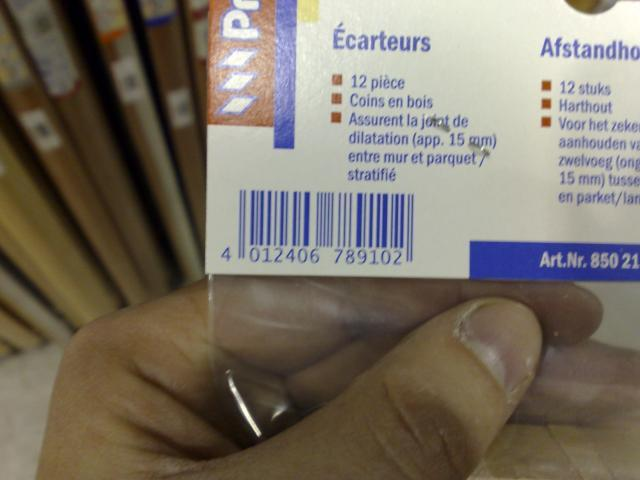Barcode: (217, 181, 430, 270)
